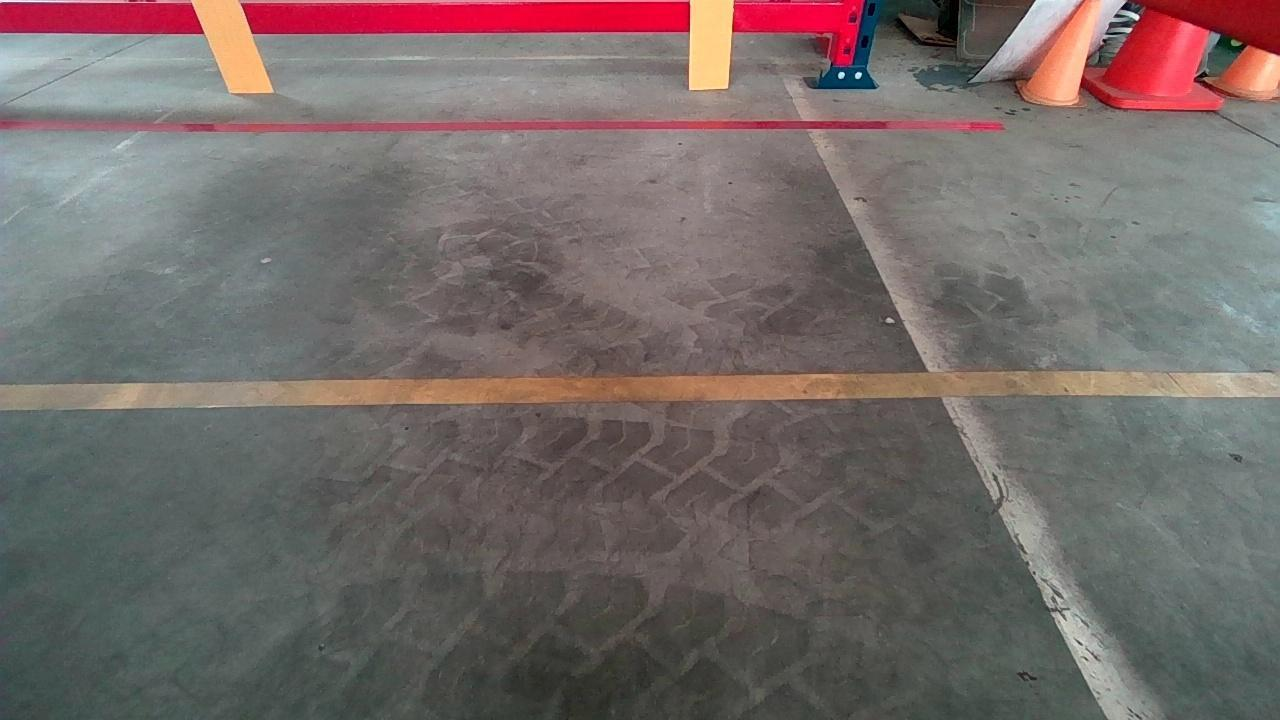h_rack: (6, 0, 835, 36)
orange_strip: (190, 0, 272, 90), (689, 0, 732, 85)
red_line: (0, 115, 1009, 130)
yellow_line: (1, 369, 1275, 415)
